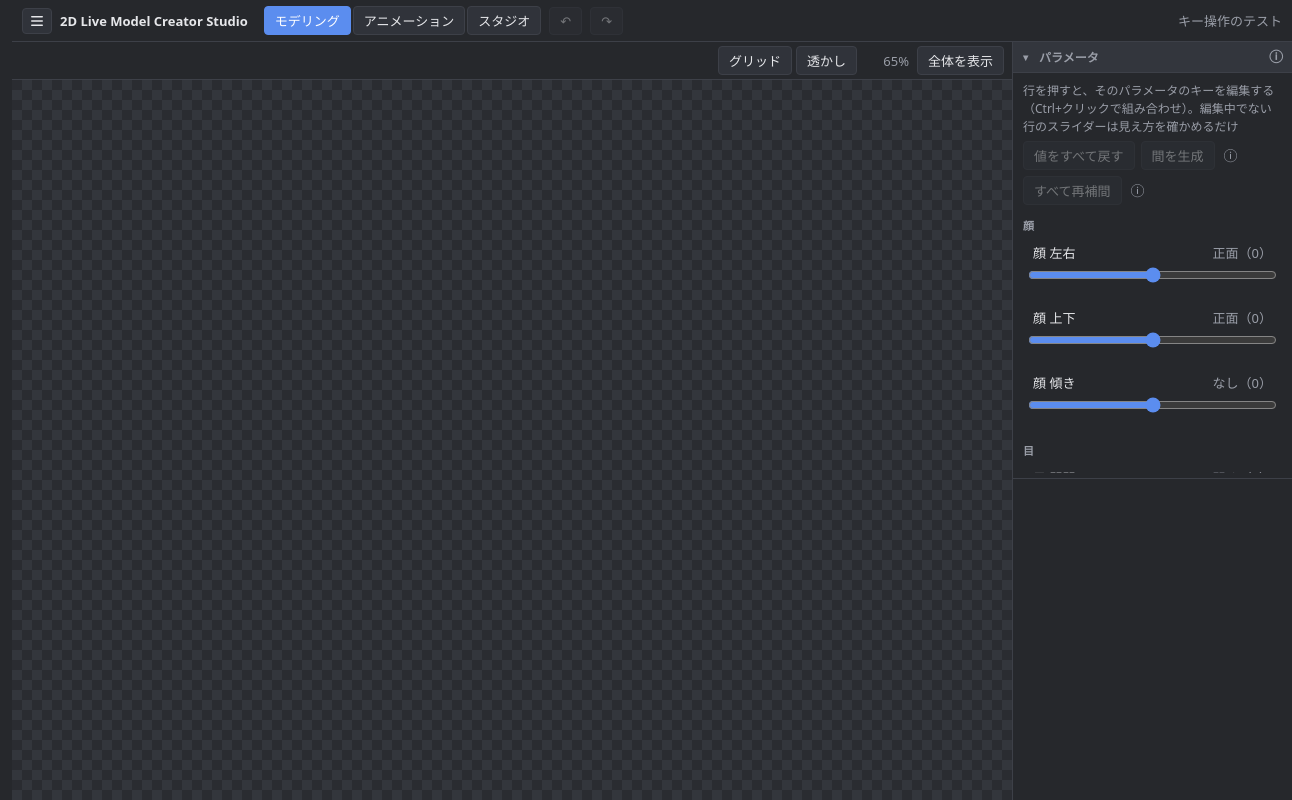
Test case: 生成方式 › 曲面にできるワープのキーが無ければ知らせ、何も変えない
This screenshot has width=1292, height=800.
Click the button "顔 左右 正面（0）": (1152, 252) x1=1028 y1=240 x2=1277 y2=265
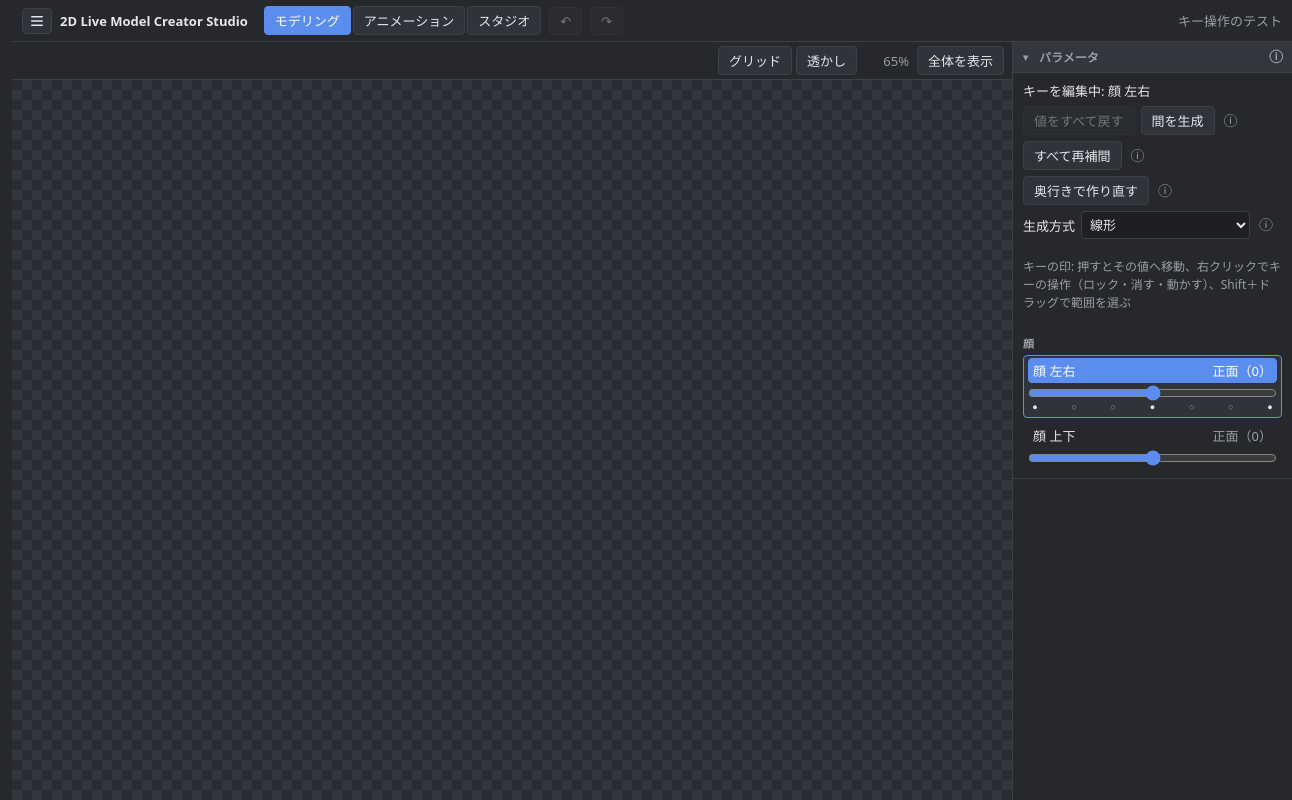
Select "曲面" in the dropdown labelled "生成方式": (1166, 225) x1=1081 y1=211 x2=1250 y2=239
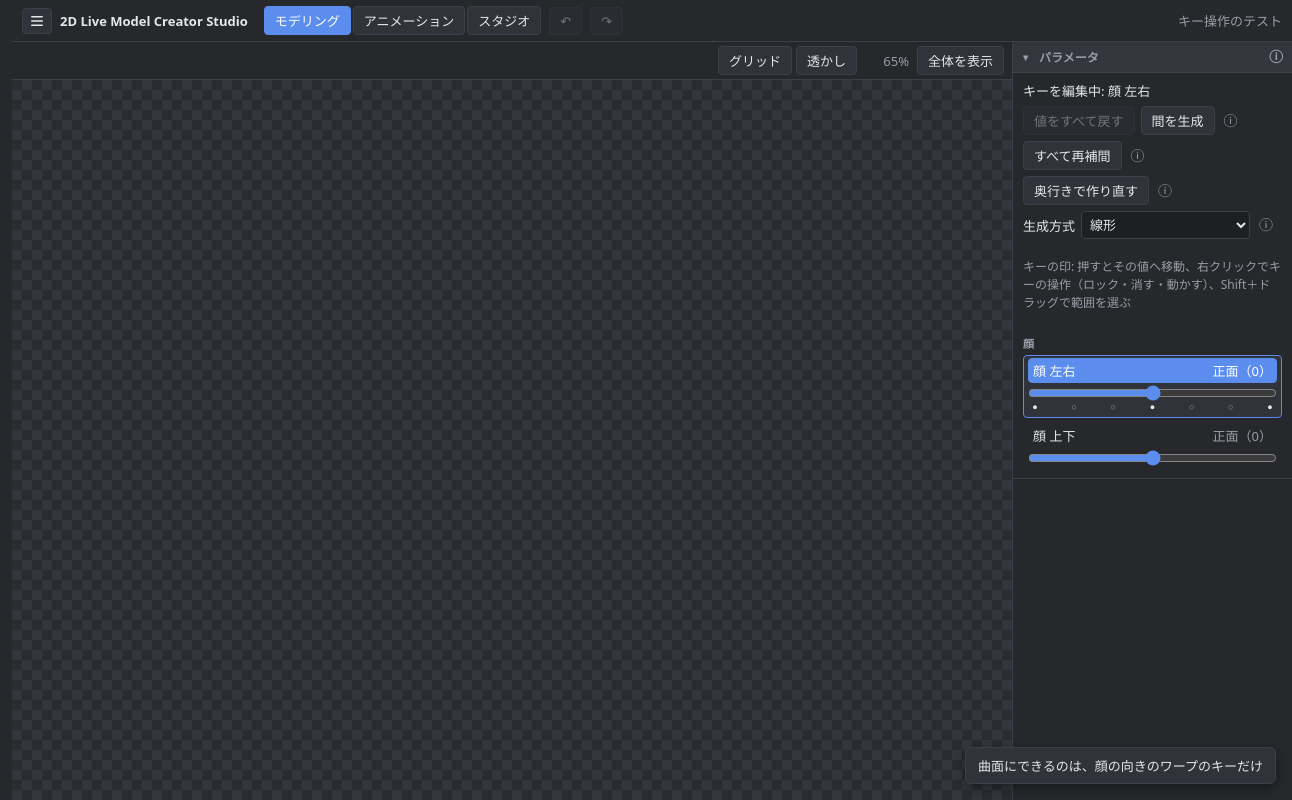
Check: the text "曲面にできるのは、顔の向きのワープのキーだけ" is shown, box x1=965 y1=747 x2=1276 y2=784
